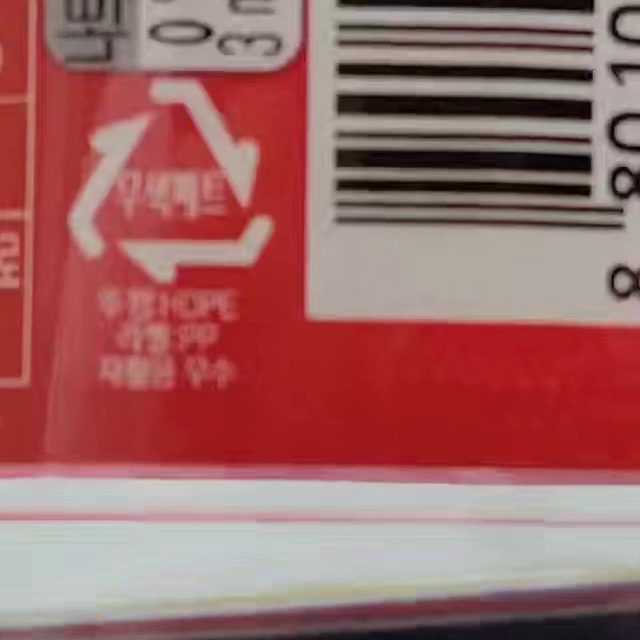ColorlessPet: (67, 78, 274, 283)
